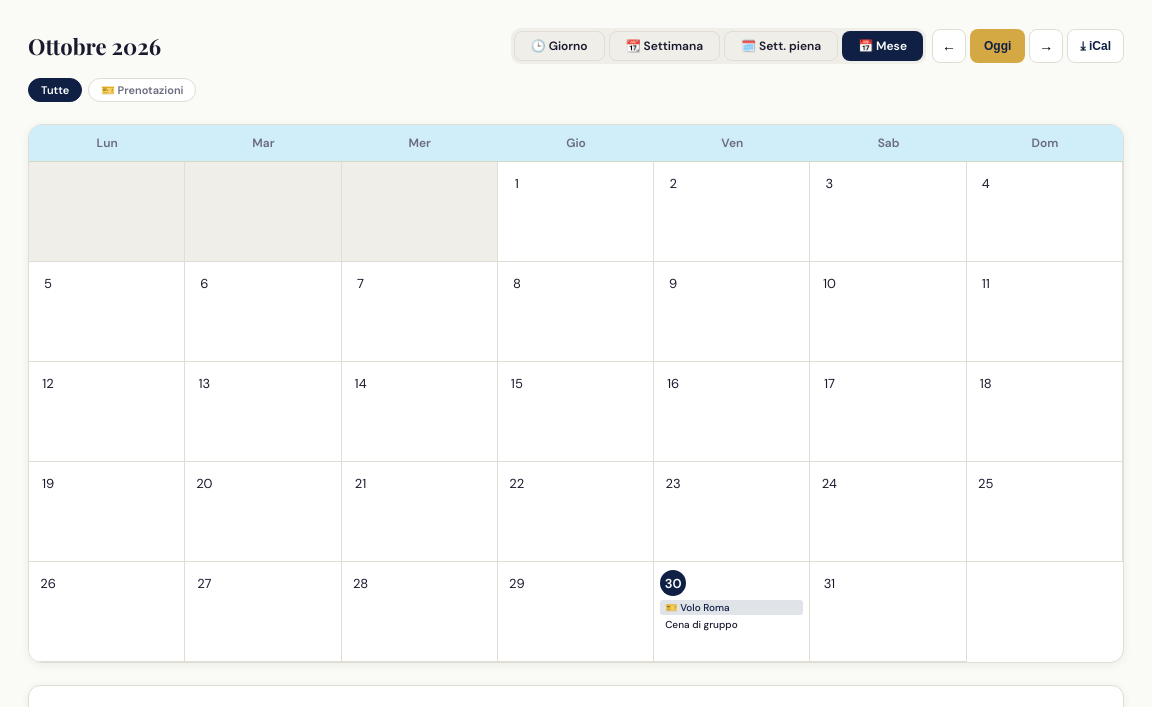
CalendarPlanner — le quattro viste montano e mostrano i task › il filtro categoria vale anche dentro le griglie orarie
Click the button "🕒 Giorno".
click(559, 46)  # box [514,31,605,61]
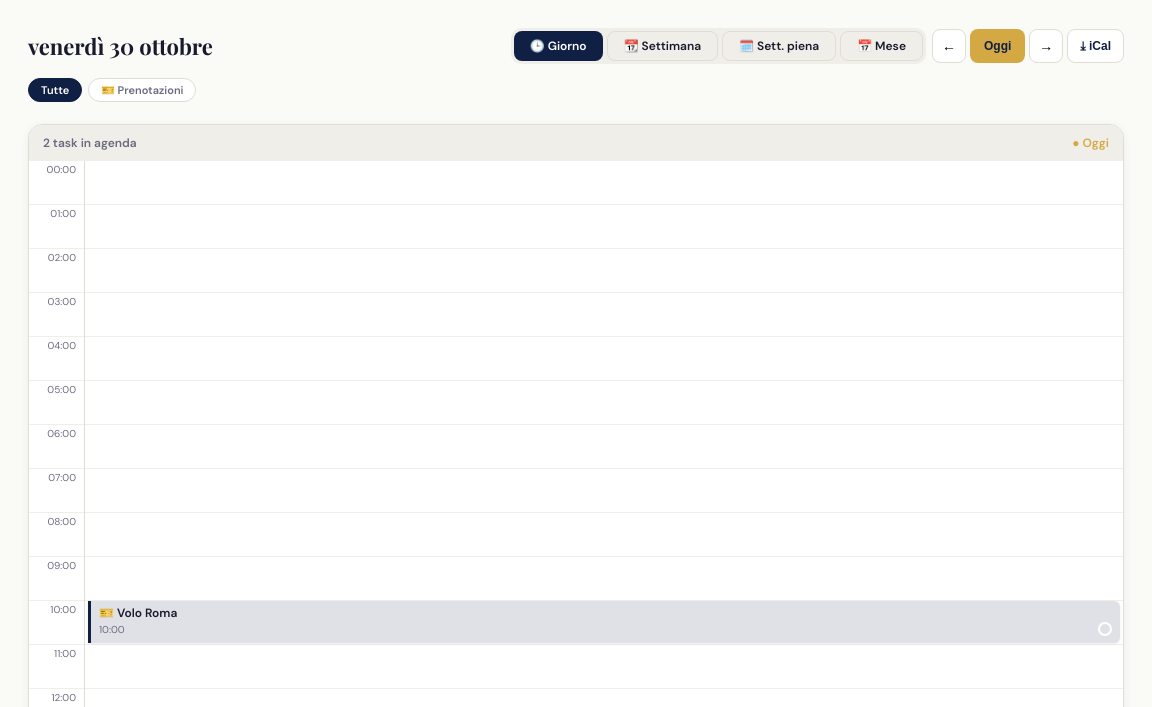
Now the text "2 task in agenda" is shown, box [43,135,137,151]
Click the button "🎫 Prenotazioni".
click(142, 90)  # box [88,78,196,102]
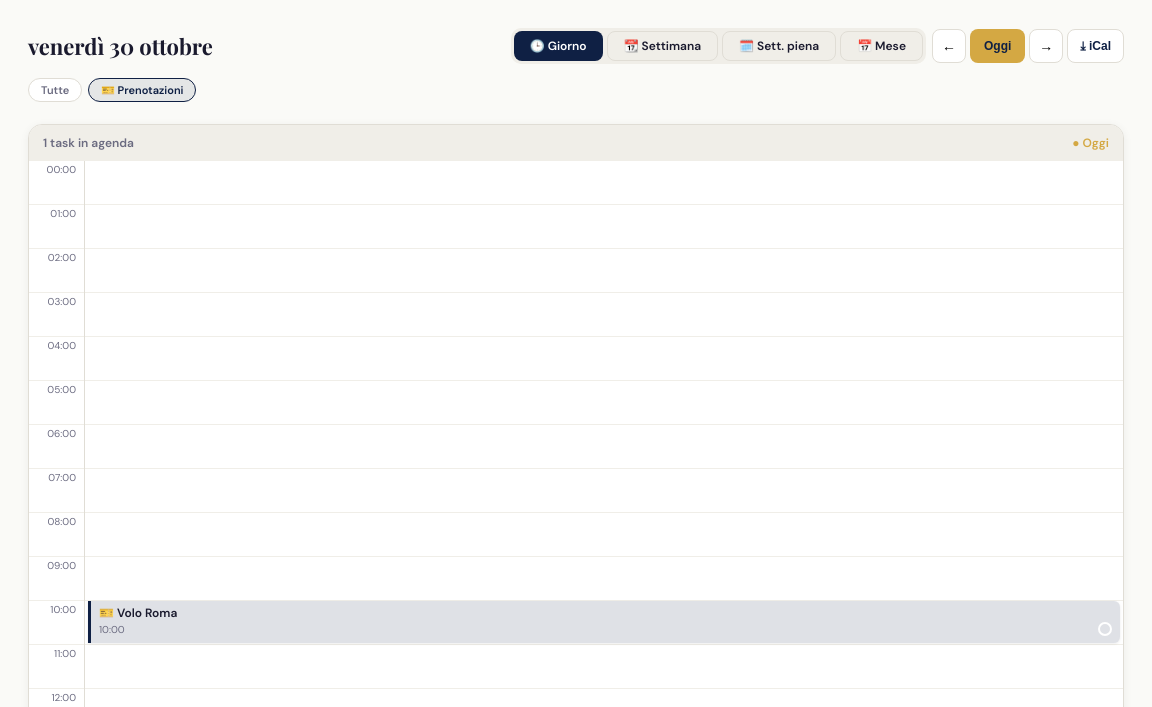
Expected: the button "Cena di gruppo" is not shown
Now the text "1 task in agenda" is shown, box [43,135,134,151]
